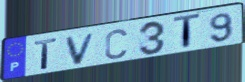3: (137, 20, 166, 57)
9: (207, 11, 237, 44)
C: (104, 28, 129, 61)
T: (173, 12, 203, 52), (33, 37, 59, 72)
V: (64, 31, 98, 67)
